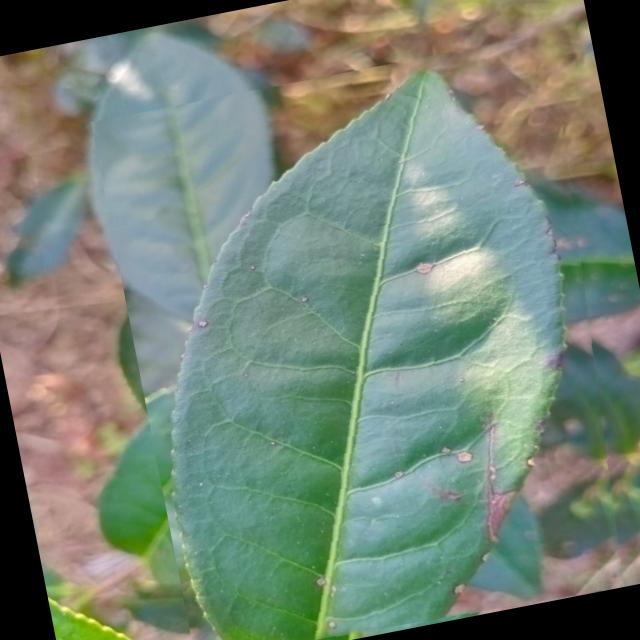Category D(7+ days, Not for Tea): (91, 33, 640, 640)
